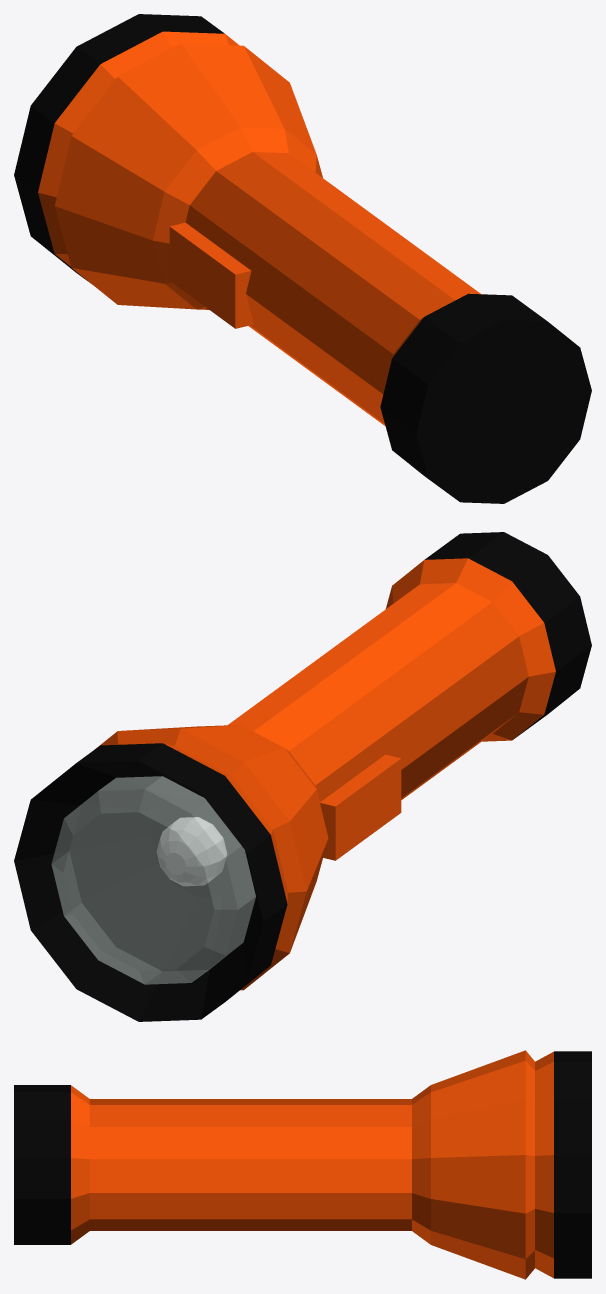
Rendered from Flashlight4.obj.
The picture shows the model from 3 angles, top to bottom: view 1: azimuth 30°, elevation 25°; view 2: azimuth 150°, elevation 25°; view 3: azimuth 270°, elevation 25°; orthographic projection. The views are drawn at different scales.
Visible parts, largest first — view 1: Flashlight; view 2: Flashlight; view 3: Flashlight.
Part boxes in pixels (x1,y1,x2,y2): Flashlight: (14,14,591,503); Flashlight: (14,532,591,1021); Flashlight: (14,1050,591,1279).
Bounding box in the file's own units: 0.2431 × 0.2431 × 0.61.
